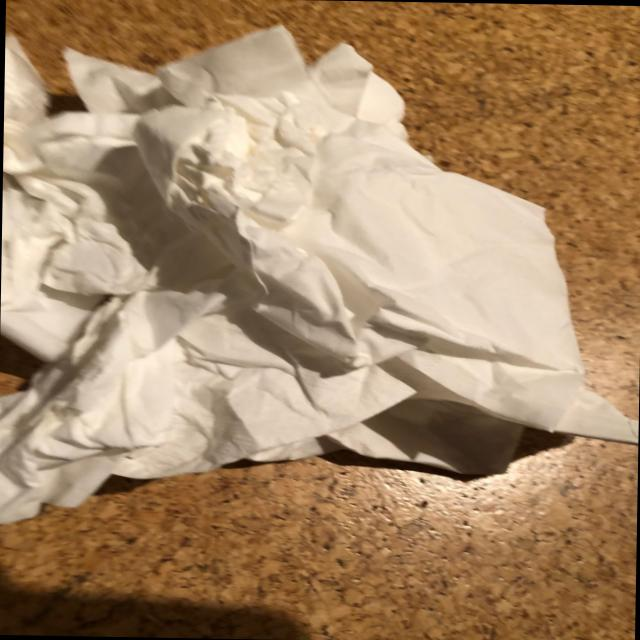organic waste: (123, 39, 640, 479)
